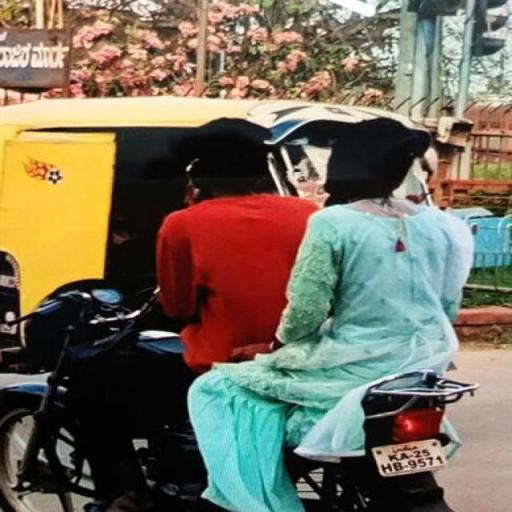using mobile: (176, 152, 220, 206)
